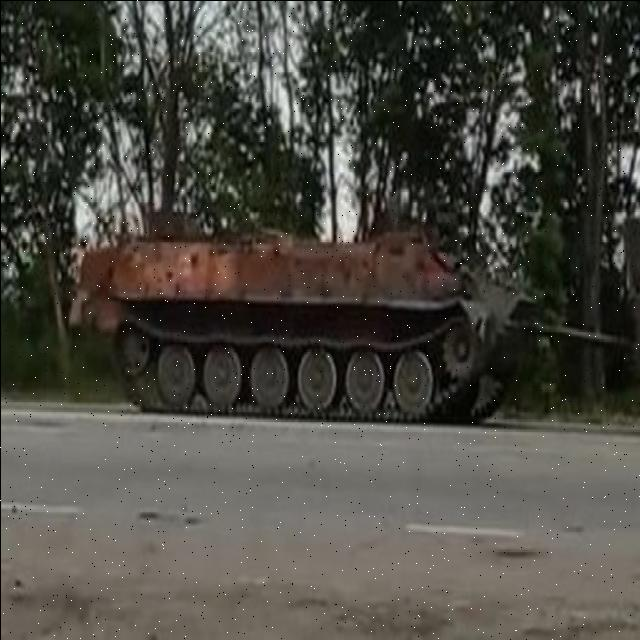APC-IFV: (75, 180, 536, 458)
